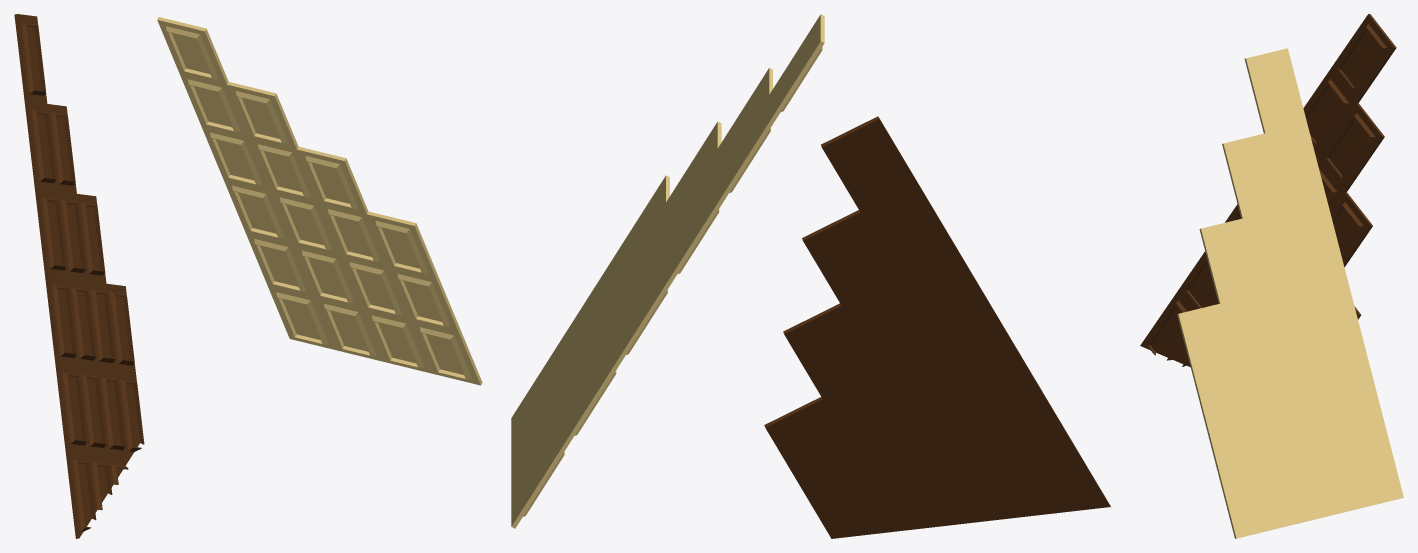
The model's file is choco.glb.
3 views of the same model, side by side, from view 1: azimuth 30°, elevation 25°; view 2: azimuth 150°, elevation 25°; view 3: azimuth 270°, elevation 25° (orthographic). The views are drawn at different scales.
Visible parts, largest first — view 1: Cube.001; view 2: Cube.001; view 3: Cube.001.
Boxes of the visible parts, box(x1,y1,x2,y2) form: Cube.001: box(14, 14, 482, 538); Cube.001: box(511, 14, 1111, 538); Cube.001: box(1140, 14, 1403, 538).
Size of the model in its own units: 3.34 by 2.92 by 1.89.
